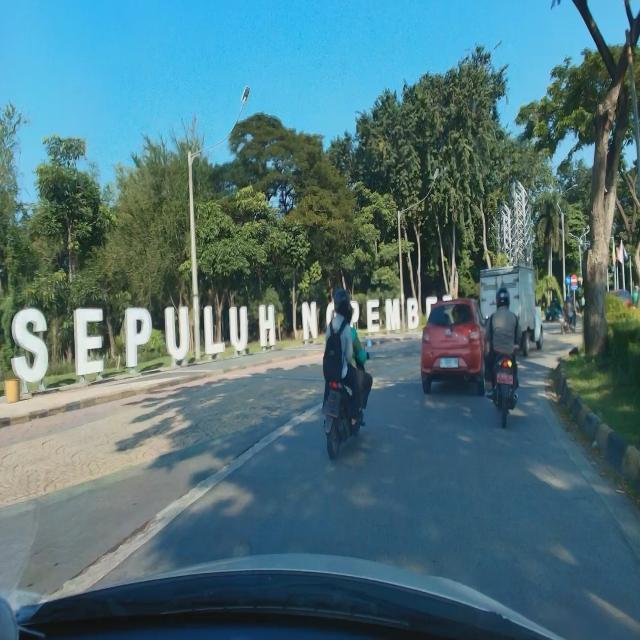car: (419, 295, 491, 397)
license-plate: (439, 357, 459, 369)
truck: (479, 261, 546, 358)
